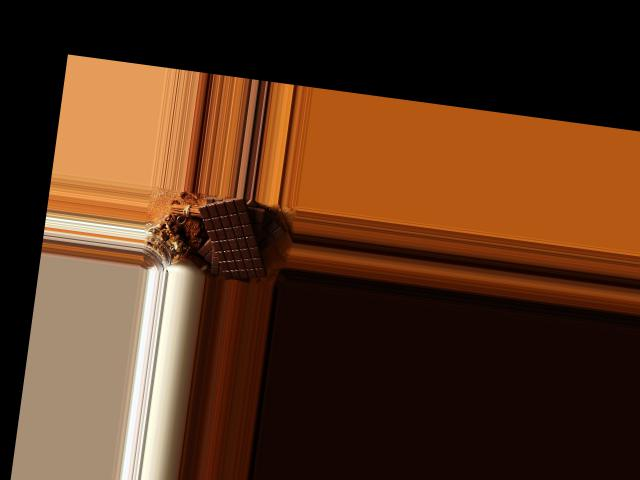chocolate: (185, 192, 277, 281)
